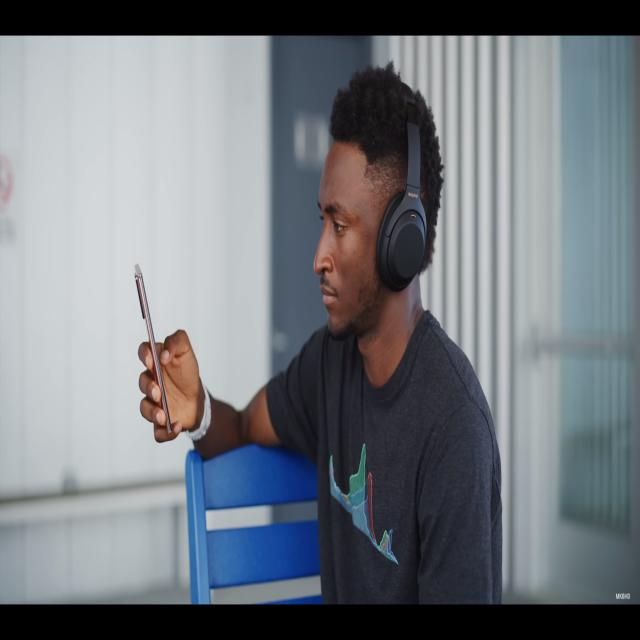Headphone: (375, 79, 427, 294)
